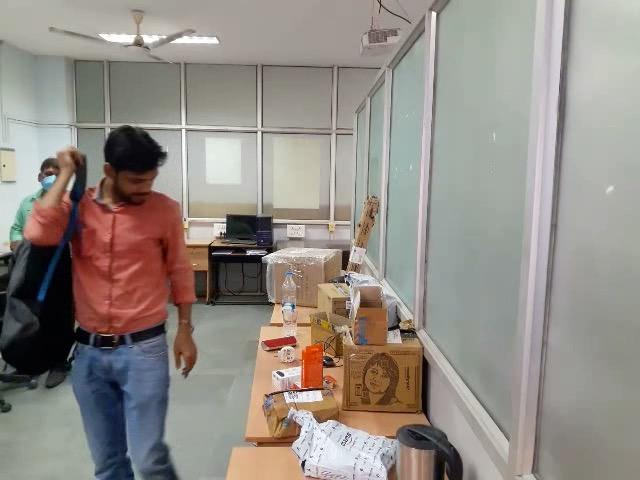Normal: (2, 120, 205, 480)
